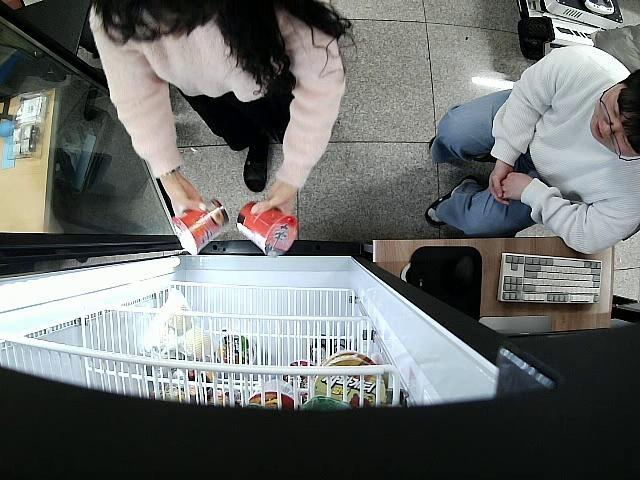02_shinRamen_S: (237, 202, 298, 258), (172, 198, 229, 256)
